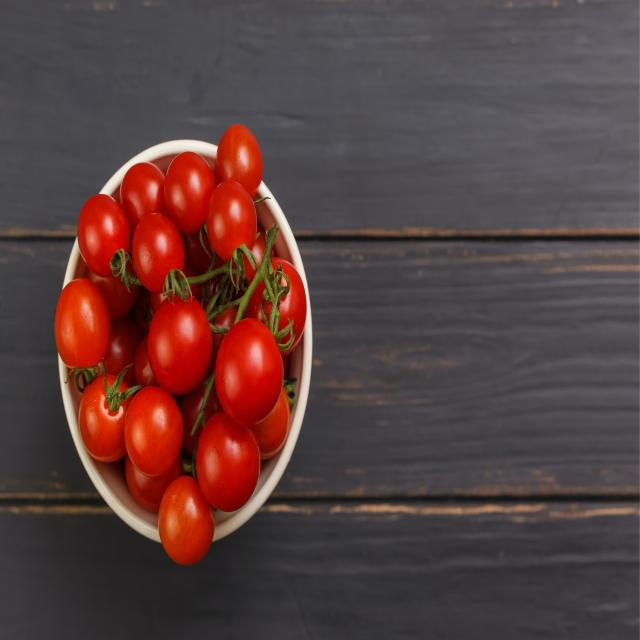Tomato: (64, 150, 306, 556), (218, 326, 290, 436), (155, 284, 212, 386)
